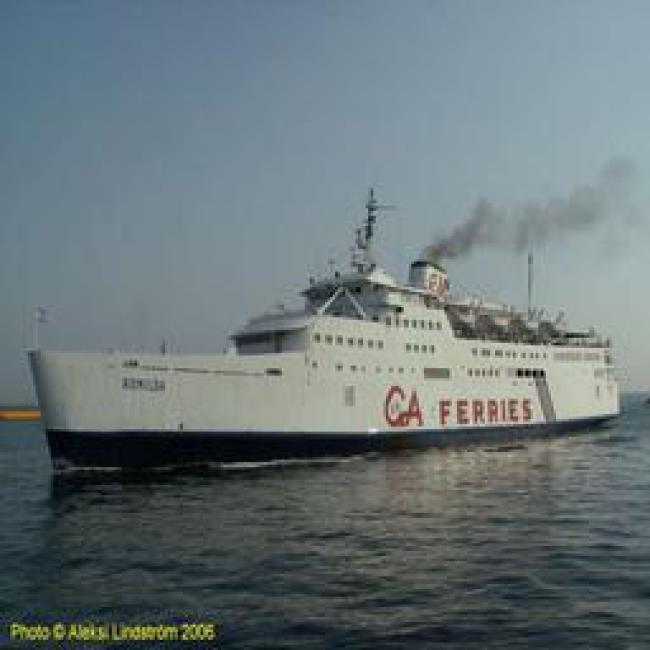Ship: (33, 290, 623, 460)
